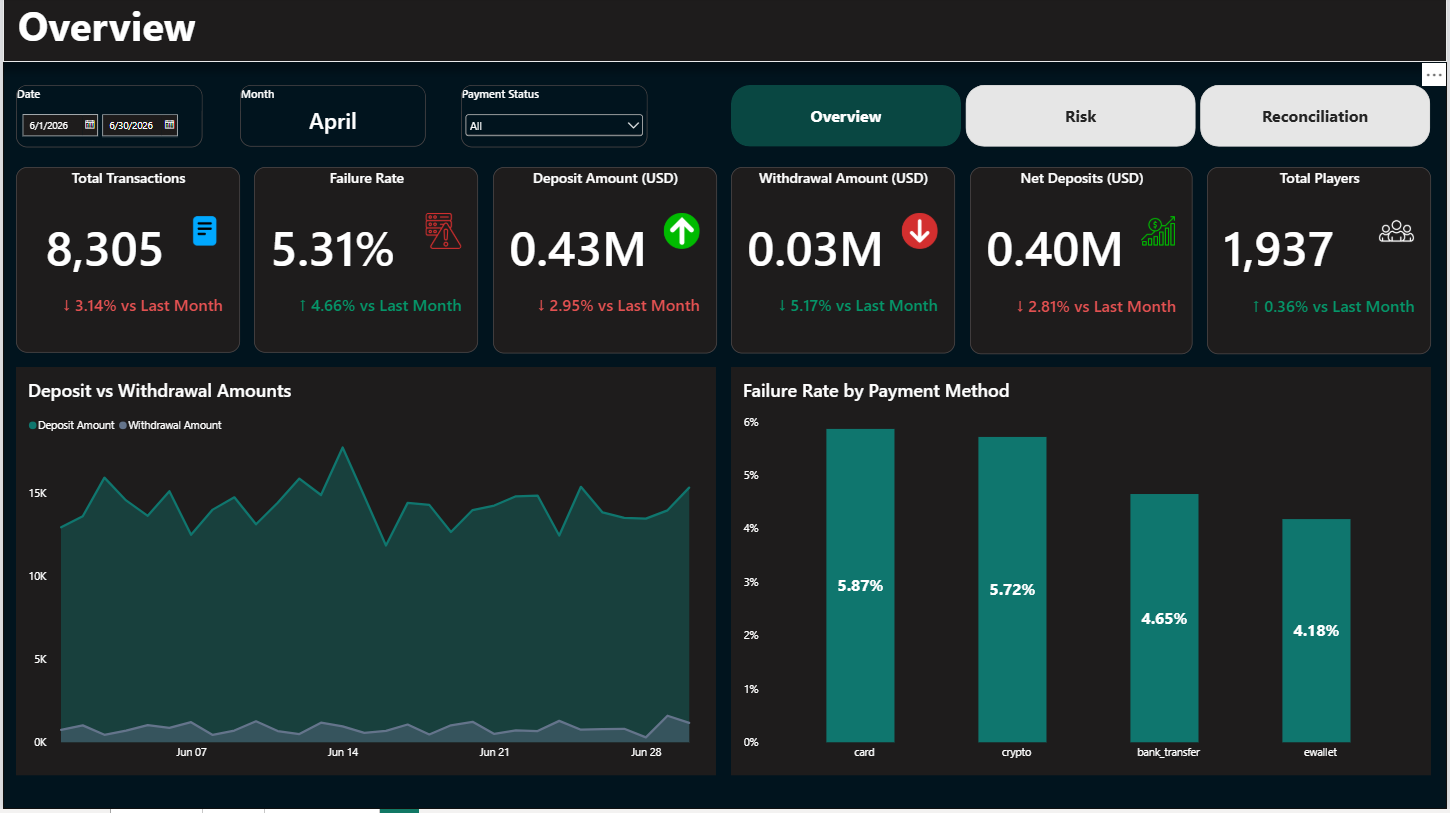

Layout of this report page (visuals, bound fields, positions):
{"tool":"powerbi","page":{"name":"Overview","canvas":[1920,1080],"ordinal":0},"visuals":[{"type":"shape","box":[0,0,1920,86.1],"z":0},{"type":"slicer","title":"Date","fields":{"Values":["DateTable.Date"]},"box":[17.1,117.1,248,83.2],"z":1000},{"type":"areaChart","title":"Deposit vs Withdrawal Amounts","fields":{"Category":["DateTable.Date"],"Y":["Payments.Deposit Amount","Payments.Withdrawal Amount"]},"box":[17.6,492.2,931.4,543.1],"z":2000},{"type":"clusteredColumnChart","title":"Failure Rate by Payment Method","fields":{"Category":["Payments.method","players.full_name"],"Y":["Payments.Failure Rate"]},"box":[968.6,492.2,931.4,543.1],"z":3000},{"type":"cardVisual","fields":{"Data":["Payments.Total Txns"]},"box":[16.8,226.4,297.5,247],"z":4000},{"type":"cardVisual","title":"Net Deposits (USD)","fields":{"Data":["Payments.Net Deposits"]},"box":[1286.3,226,296.1,249],"z":5000},{"type":"cardVisual","title":"Deposit Amount (USD)","fields":{"Data":["Payments.Deposit Amount"]},"box":[651.2,226.2,297.5,247.5],"z":6000},{"type":"cardVisual","title":"Withdrawal Amount (USD)","fields":{"Data":["Payments.Withdrawal Amount"]},"box":[968.8,226.2,297.5,247.5],"z":7000},{"type":"cardVisual","title":"Failure Rate","fields":{"Data":["Payments.Failure Rate"]},"box":[333.3,226.7,298.3,246.7],"z":8000},{"type":"cardVisual","title":"Total Players","fields":{"Data":["Count(Payments.player_id)"]},"box":[1602,226,298,249],"z":9000},{"type":"cardVisual","title":"Month","fields":{"Data":["Min(DateTable.Date.Variation.Date Hierarchy.Month)"]},"box":[315.7,117.6,247.1,82.4],"z":10000},{"type":"pageNavigator","box":[968.6,117.6,931.4,82.4],"z":11000},{"type":"slicer","title":"Payment Status","fields":{"Values":["Payments.status"]},"box":[609.8,117.6,248,83.2],"z":11001}]}

Visuals, with their boxes in screenshot pixels (x1, y1, x2, y2), scaled from the page's 1920x1080 canvas onto the 1450x813 screenshot:
shape: [0,0,1449,65]
"Date" slicer: [13,88,200,151]
"Deposit vs Withdrawal Amounts" areaChart: [13,371,717,779]
"Failure Rate by Payment Method" clusteredColumnChart: [731,371,1435,779]
cardVisual - Payments.Total Txns: [13,170,237,356]
"Net Deposits (USD)" cardVisual: [971,170,1195,358]
"Deposit Amount (USD)" cardVisual: [492,170,716,357]
"Withdrawal Amount (USD)" cardVisual: [732,170,956,357]
"Failure Rate" cardVisual: [252,171,477,356]
"Total Players" cardVisual: [1210,170,1435,358]
"Month" cardVisual: [238,89,425,151]
pageNavigator: [731,89,1435,151]
"Payment Status" slicer: [461,89,648,151]
